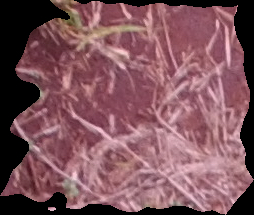soil: (2, 3, 252, 213)
